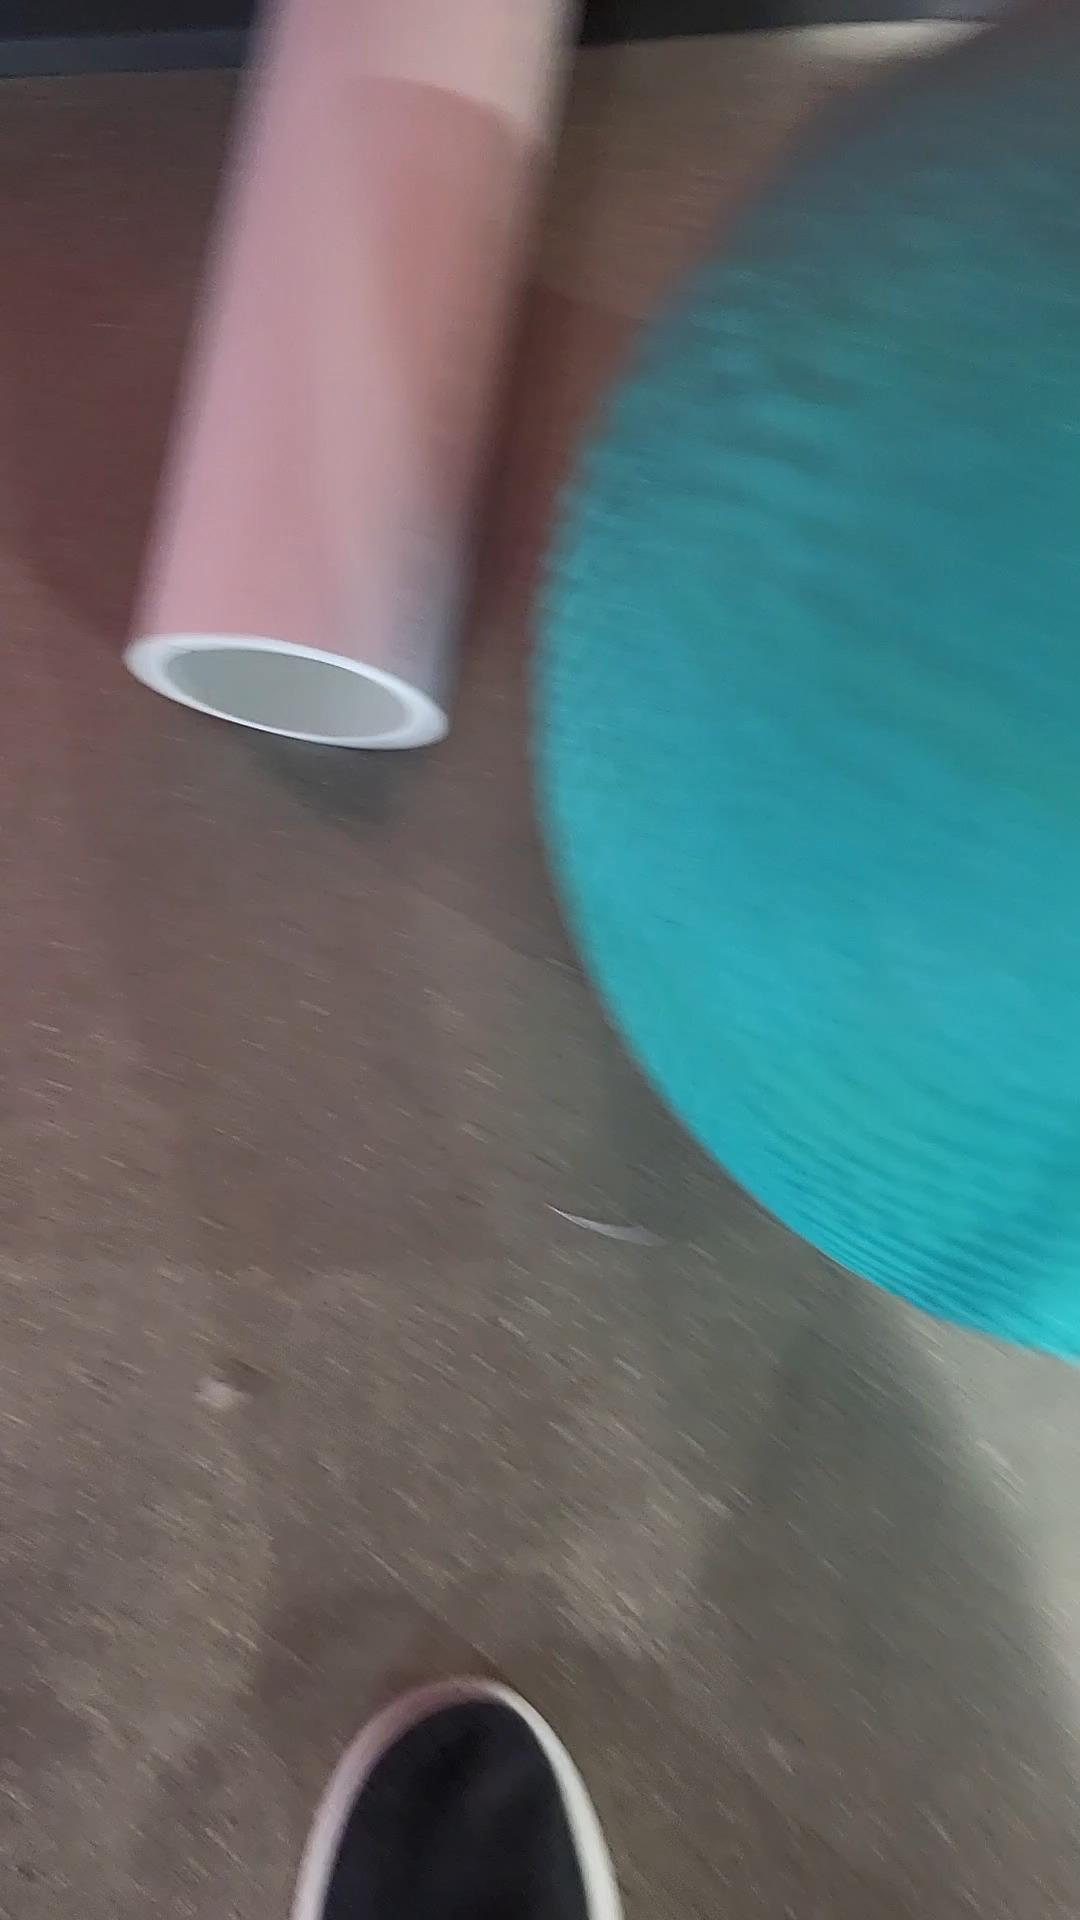algae: (535, 7, 1080, 1337)
coral: (91, 0, 526, 781)
